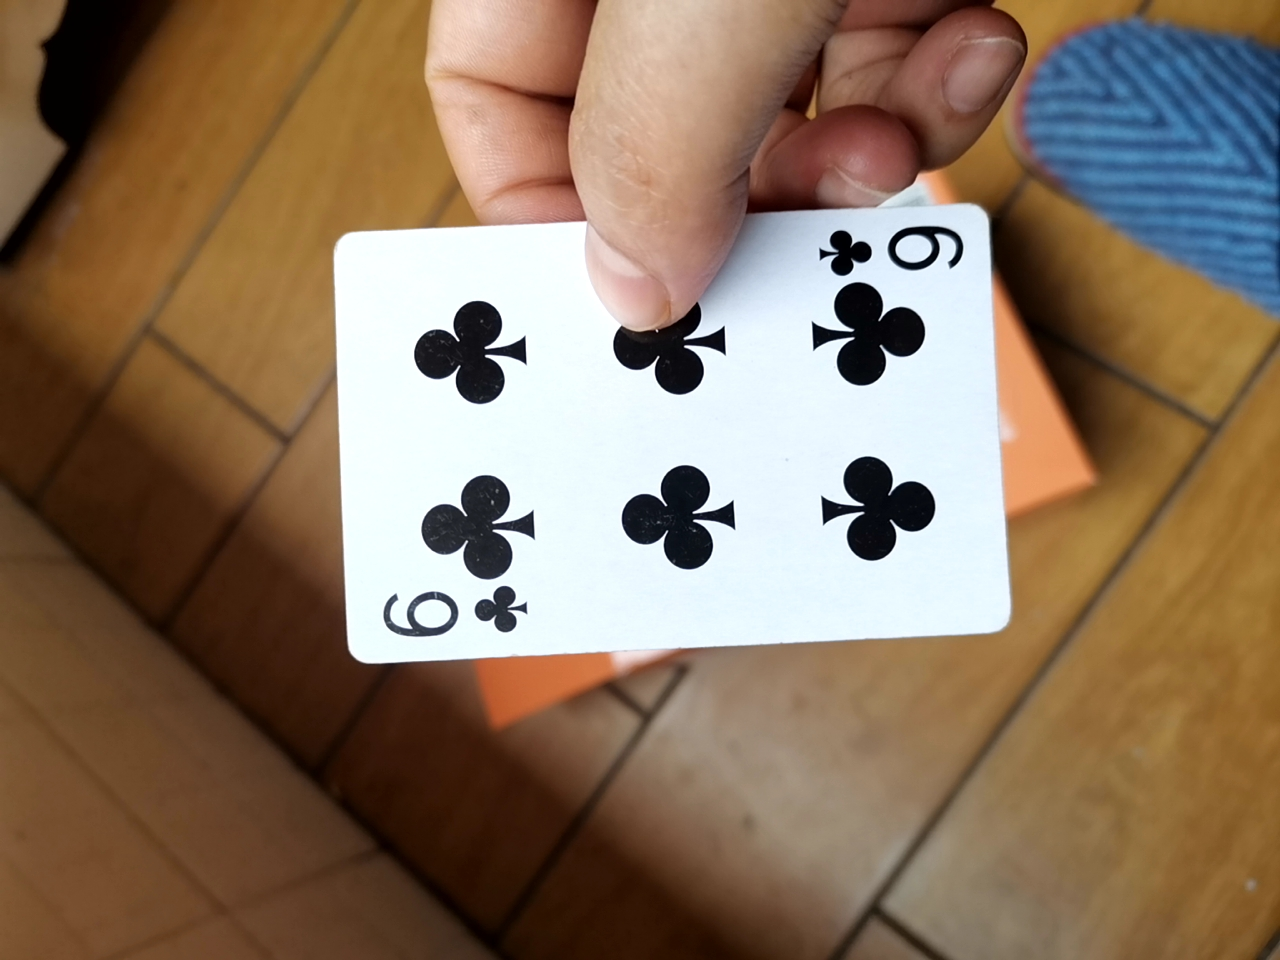mh 6: (316, 185, 1009, 677)
